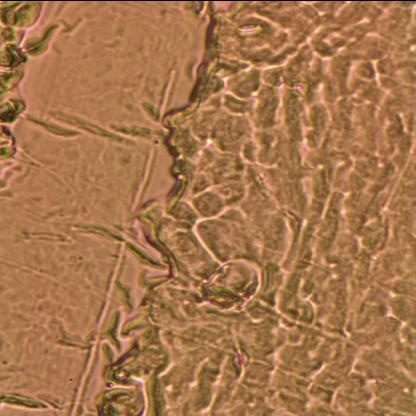Stage II: (124, 0, 416, 416)
